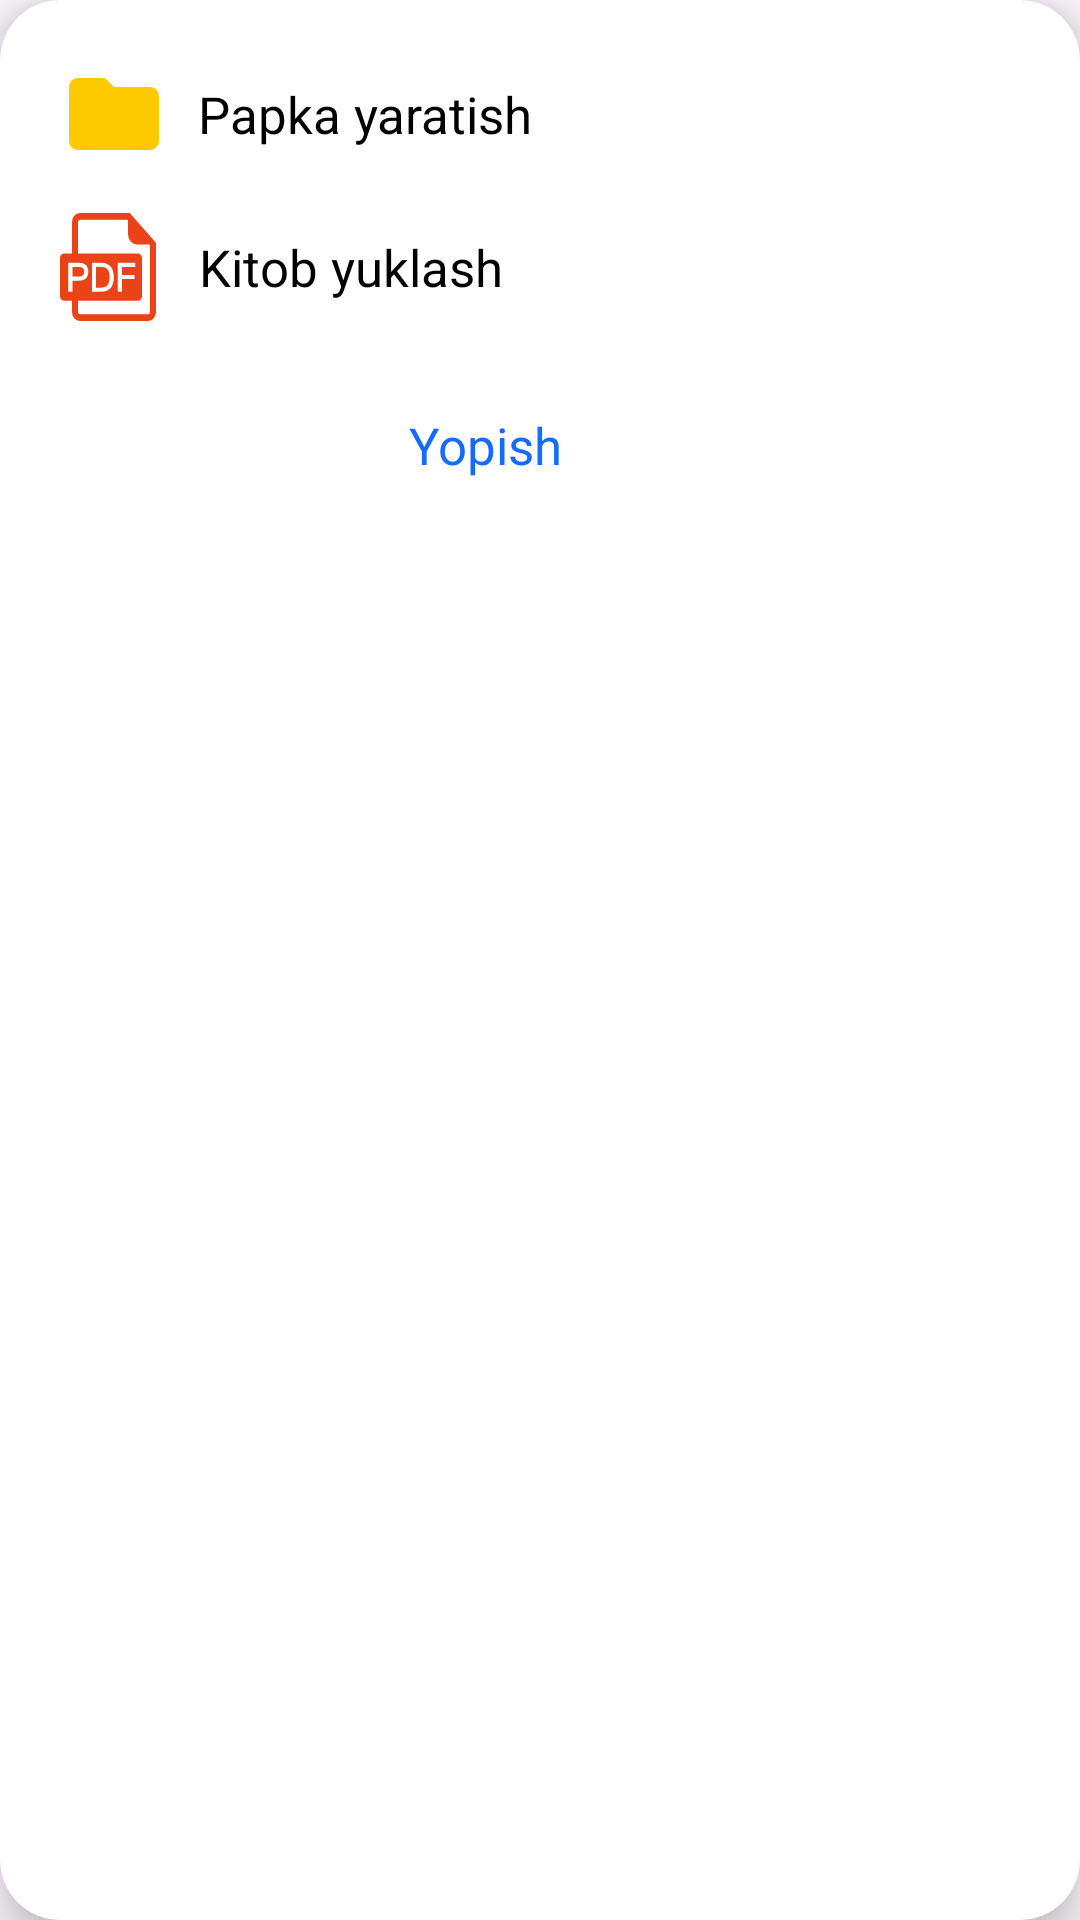

Screen size 1080×1920. Icon name, then its box in pixels as (x1, y1, x2, y2):
folder: (69, 78, 159, 150)
